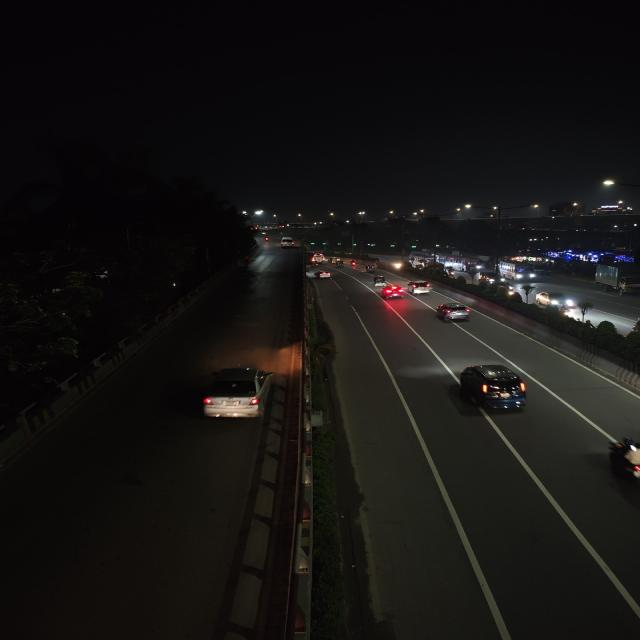bus: (499, 259, 538, 283), (409, 250, 442, 272), (458, 256, 491, 272)
car: (454, 361, 535, 416), (200, 365, 274, 423), (535, 289, 575, 310), (435, 301, 472, 323), (407, 279, 434, 295), (382, 283, 406, 299), (278, 238, 296, 248), (316, 269, 332, 280)
cng: (370, 274, 387, 288), (334, 260, 346, 268)
truck: (593, 262, 640, 296)
